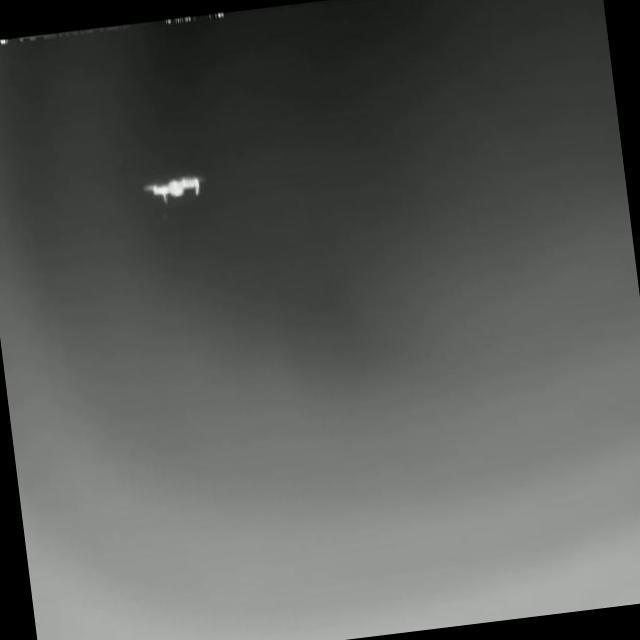DRONE: (141, 170, 206, 203)
